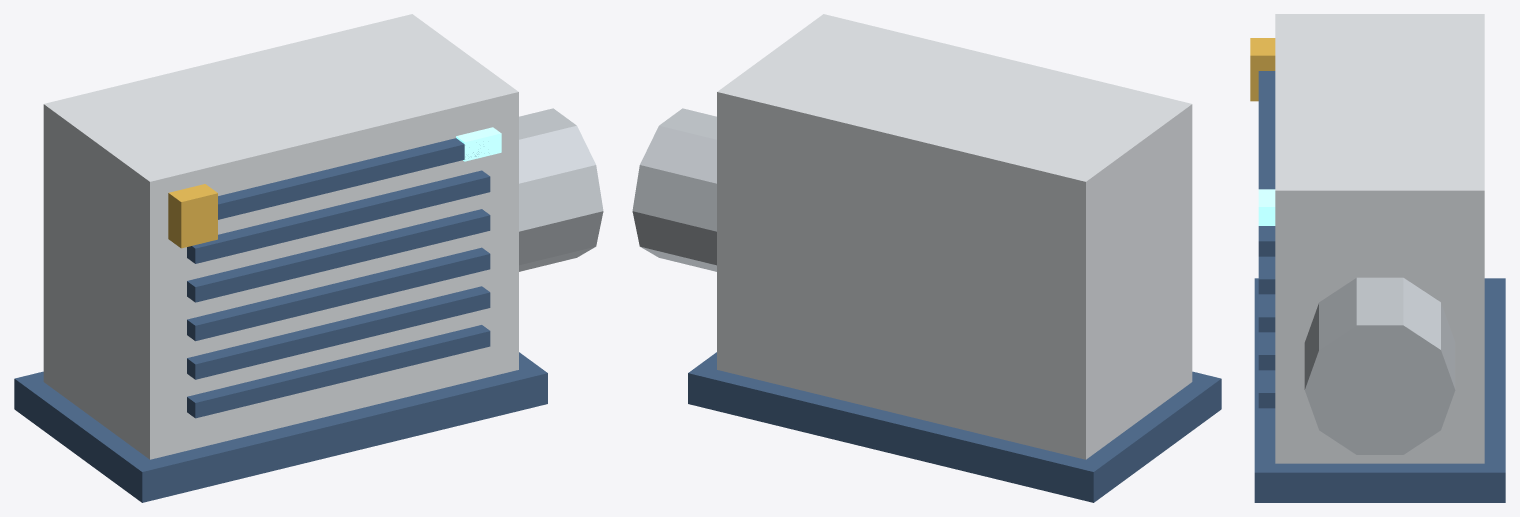
File: vent_filter_unit.glb
3 renders of one model, left to right at view 1: azimuth 30°, elevation 25°; view 2: azimuth 150°, elevation 25°; view 3: azimuth 270°, elevation 25°, orthographic.
Parts seen in each view (by area): view 1: vent_filter_unit_hull_offwhite, vent_filter_unit_navy_frame, vent_filter_unit_titanium, vent_filter_unit_amber_accent, vent_filter_unit_emissive_cyan; view 2: vent_filter_unit_hull_offwhite, vent_filter_unit_navy_frame, vent_filter_unit_titanium; view 3: vent_filter_unit_hull_offwhite, vent_filter_unit_titanium, vent_filter_unit_navy_frame, vent_filter_unit_amber_accent, vent_filter_unit_emissive_cyan.
Boxes of the visible parts, bbox=[...] form: vent_filter_unit_hull_offwhite: bbox=[43, 14, 518, 459]; vent_filter_unit_navy_frame: bbox=[14, 138, 547, 502]; vent_filter_unit_titanium: bbox=[519, 108, 603, 271]; vent_filter_unit_amber_accent: bbox=[168, 184, 217, 248]; vent_filter_unit_emissive_cyan: bbox=[456, 127, 501, 161]; vent_filter_unit_hull_offwhite: bbox=[717, 14, 1192, 459]; vent_filter_unit_navy_frame: bbox=[688, 352, 1221, 502]; vent_filter_unit_titanium: bbox=[632, 108, 716, 271]; vent_filter_unit_hull_offwhite: bbox=[1275, 14, 1484, 463]; vent_filter_unit_titanium: bbox=[1304, 277, 1455, 454]; vent_filter_unit_navy_frame: bbox=[1254, 71, 1505, 502]; vent_filter_unit_amber_accent: bbox=[1250, 38, 1275, 101]; vent_filter_unit_emissive_cyan: bbox=[1258, 189, 1275, 225].
Bounding box in the file's own units: 1.32 × 0.8 × 0.61.
